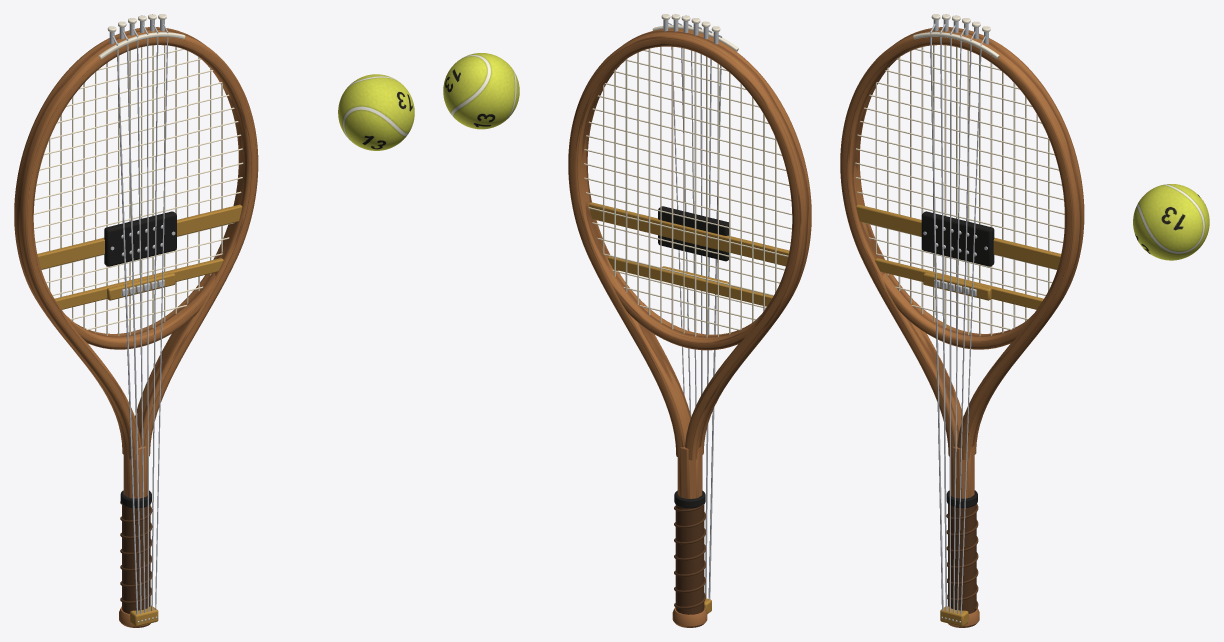
The model's file is tennis-racket.glb.
3 renders of one model, left to right at view 1: azimuth 30°, elevation 25°; view 2: azimuth 150°, elevation 25°; view 3: azimuth 330°, elevation 25°, orthographic.
Parts seen in each view (by area): view 1: frame, main, gstring, rail, tennis_ball, grip, pickup, post, button; view 2: frame, main, rail, tennis_ball, gstring, grip, pickup, button; view 3: frame, main, gstring, rail, tennis_ball, grip, pickup, post, button.
Boxes of the visible parts, x1=… form: frame: x1=14, y1=27, x2=258, y2=627; main: x1=33, y1=45, x2=243, y2=336; gstring: x1=112, y1=24, x2=168, y2=614; rail: x1=37, y1=204, x2=242, y2=626; tennis_ball: x1=338, y1=74, x2=414, y2=150; grip: x1=120, y1=501, x2=152, y2=613; pickup: x1=104, y1=211, x2=176, y2=266; post: x1=109, y1=19, x2=175, y2=622; button: x1=99, y1=14, x2=185, y2=59; frame: x1=568, y1=28, x2=811, y2=627; main: x1=584, y1=46, x2=792, y2=337; rail: x1=589, y1=202, x2=789, y2=613; tennis_ball: x1=443, y1=53, x2=519, y2=129; gstring: x1=668, y1=22, x2=722, y2=599; grip: x1=674, y1=504, x2=705, y2=614; pickup: x1=658, y1=206, x2=728, y2=261; button: x1=652, y1=14, x2=738, y2=51; frame: x1=840, y1=27, x2=1084, y2=627; main: x1=855, y1=45, x2=1064, y2=336; gstring: x1=930, y1=23, x2=985, y2=614; rail: x1=856, y1=204, x2=1061, y2=626; tennis_ball: x1=1133, y1=184, x2=1209, y2=260; grip: x1=946, y1=504, x2=978, y2=613; pickup: x1=921, y1=211, x2=994, y2=266; post: x1=923, y1=19, x2=988, y2=622; button: x1=913, y1=14, x2=999, y2=59.
Size of the model in its own units: 0.4185 by 0.6425 by 0.0838.
10 materials, 2 textured.
